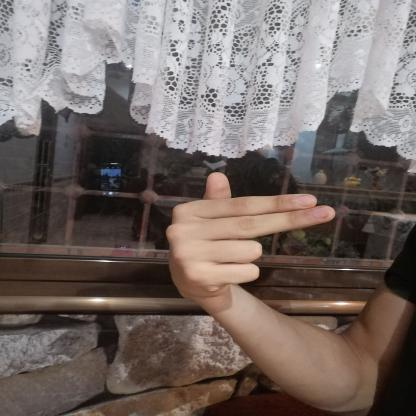GHAYN: (152, 165, 349, 310)
